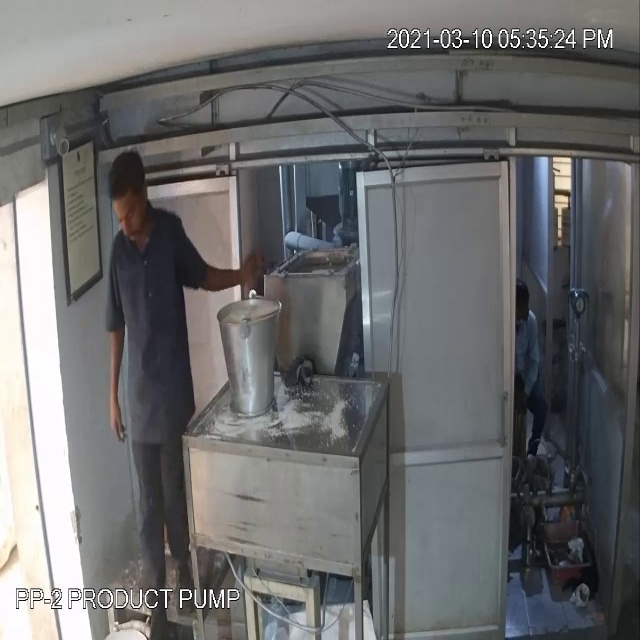Sin_guantes: (95, 301, 139, 462), (186, 233, 273, 302)
